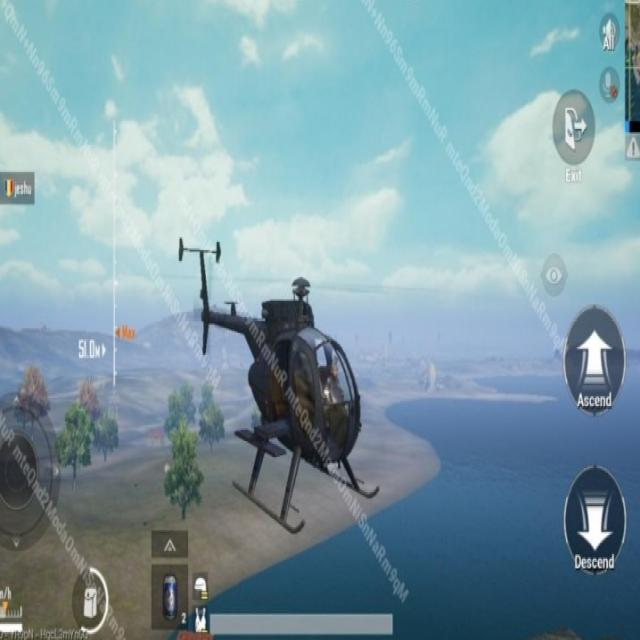helicopter: (178, 237, 402, 541)
